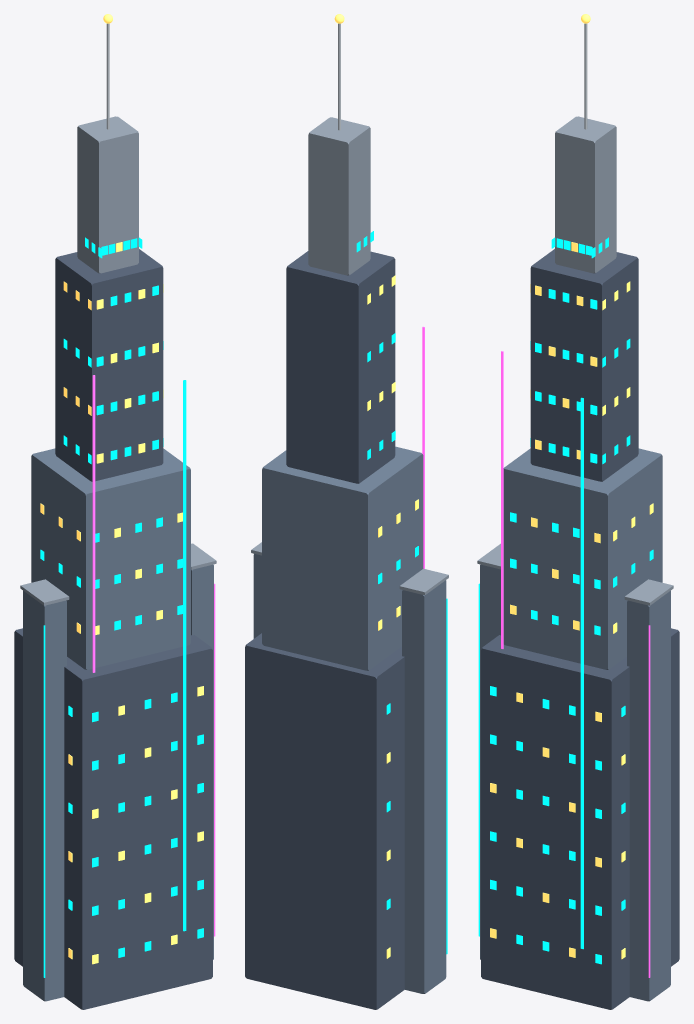
File: neon_arcology.glb
The picture shows the model from 3 angles, left to right: view 1: azimuth 30°, elevation 25°; view 2: azimuth 150°, elevation 25°; view 3: azimuth 330°, elevation 25°; orthographic projection.
Parts seen in each view (by area): view 1: Obsidian_cladding, Blue_titanium_facade, Brushed_alloy, Cyan_lightguide, Amber_signal, Magenta_lightguide; view 2: Obsidian_cladding, Blue_titanium_facade, Brushed_alloy, Cyan_lightguide, Amber_signal, Magenta_lightguide; view 3: Obsidian_cladding, Blue_titanium_facade, Brushed_alloy, Cyan_lightguide, Amber_signal, Magenta_lightguide.
Part boxes in pixels (left/top/right/bottom): Obsidian_cladding: left=14, top=249, right=212, bottom=1009; Blue_titanium_facade: left=23, top=448, right=213, bottom=1001; Brushed_alloy: left=20, top=116, right=216, bottom=605; Cyan_lightguide: left=40, top=237, right=203, bottom=977; Amber_signal: left=40, top=14, right=203, bottom=964; Magenta_lightguide: left=92, top=375, right=215, bottom=936; Obsidian_cladding: left=245, top=251, right=404, bottom=1009; Blue_titanium_facade: left=253, top=446, right=446, bottom=993; Brushed_alloy: left=251, top=117, right=448, bottom=595; Cyan_lightguide: left=356, top=231, right=447, bottom=954; Amber_signal: left=334, top=14, right=418, bottom=958; Magenta_lightguide: left=422, top=326, right=424, bottom=568; Obsidian_cladding: left=481, top=249, right=679, bottom=1009; Blue_titanium_facade: left=480, top=448, right=670, bottom=1001; Brushed_alloy: left=477, top=116, right=673, bottom=605; Cyan_lightguide: left=478, top=237, right=653, bottom=964; Amber_signal: left=490, top=14, right=653, bottom=959; Magenta_lightguide: left=501, top=351, right=650, bottom=977.
Bounding box in the file's own units: 8.2 × 43.2 × 5.67.
7 materials, 7 textured.
